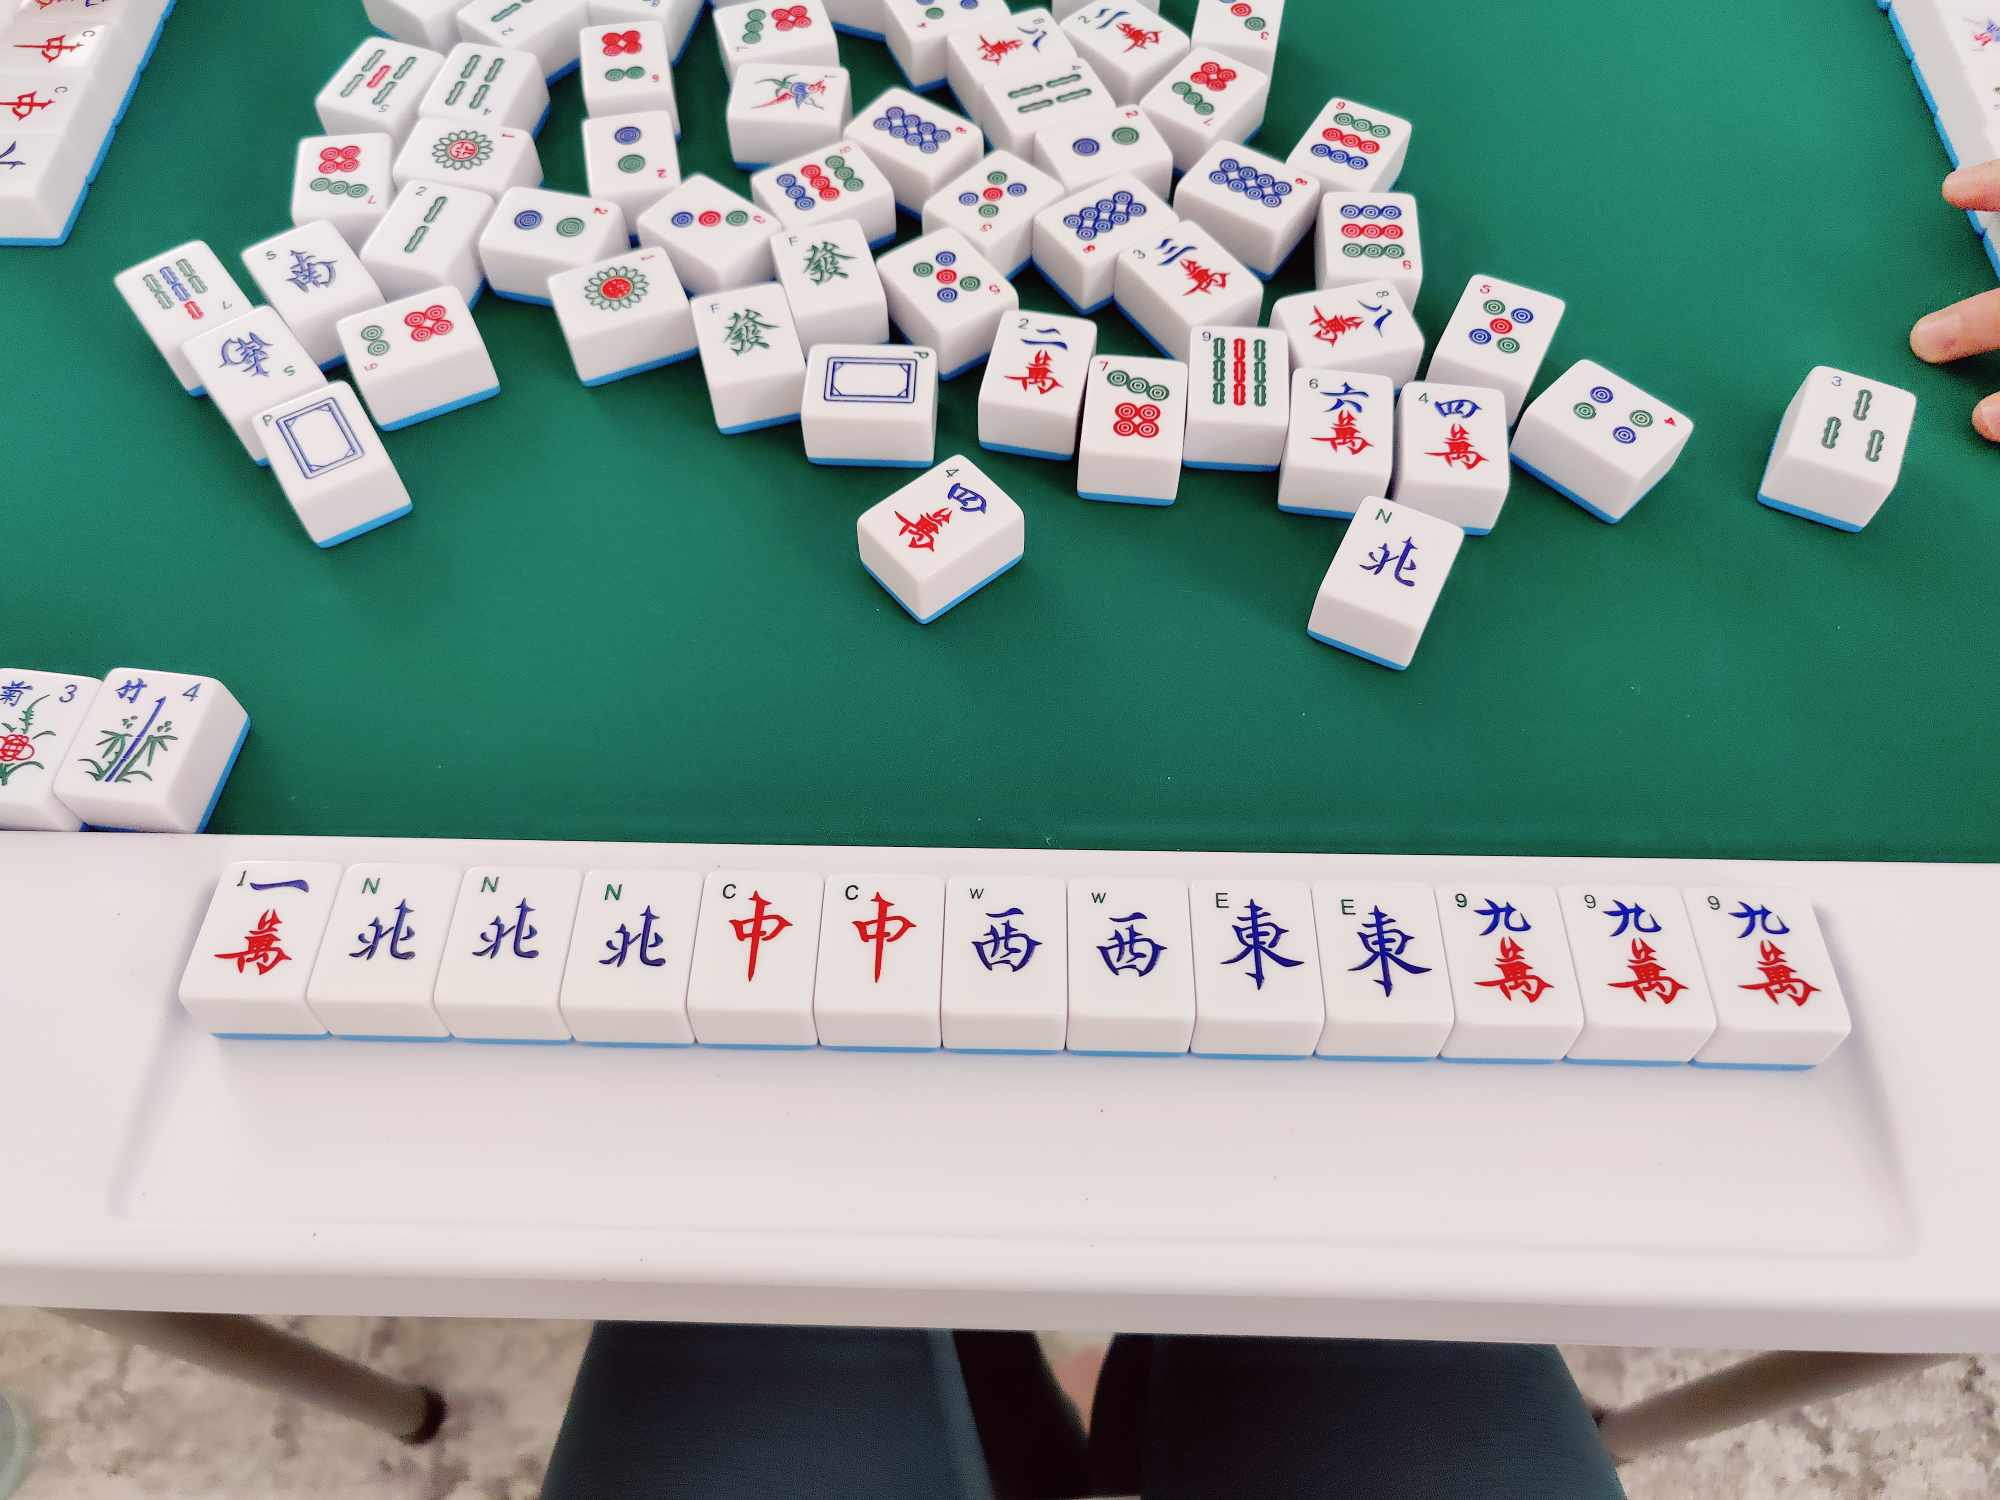character-nine: (1706, 890, 1824, 1008), (1580, 890, 1688, 1013), (1454, 890, 1556, 1005)
character-one: (209, 867, 312, 993)
flower-blue_four: (76, 670, 213, 797)
honor-east_wind: (1202, 886, 1309, 1012), (1328, 890, 1433, 1012)
honor-north_wind: (342, 867, 424, 983), (469, 870, 554, 978), (591, 879, 676, 985)
honor-red_dragon: (835, 882, 929, 996), (710, 876, 797, 993)
honor-west_wind: (1074, 882, 1186, 1002), (953, 881, 1058, 999)
